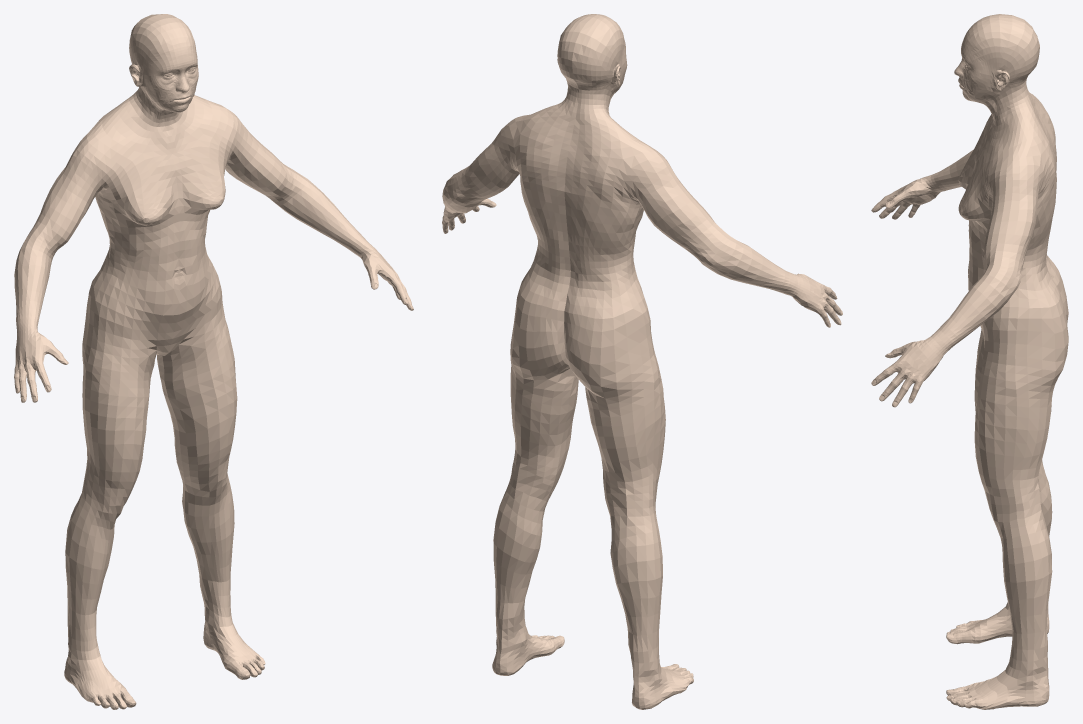
Rendered from female-older-heavy-high.glb.
The picture shows the model from 3 angles, left to right: view 1: azimuth 30°, elevation 25°; view 2: azimuth 150°, elevation 25°; view 3: azimuth 270°, elevation 25°; orthographic projection.
Visible parts, largest first — view 1: world; view 2: world; view 3: world.
Boxes of the visible parts, x1,y1,x2,y2 form: world: (14, 14, 413, 709); world: (442, 14, 842, 709); world: (871, 14, 1068, 709).
Bounding box in the file's own units: 1.15 × 1.85 × 0.5055.
